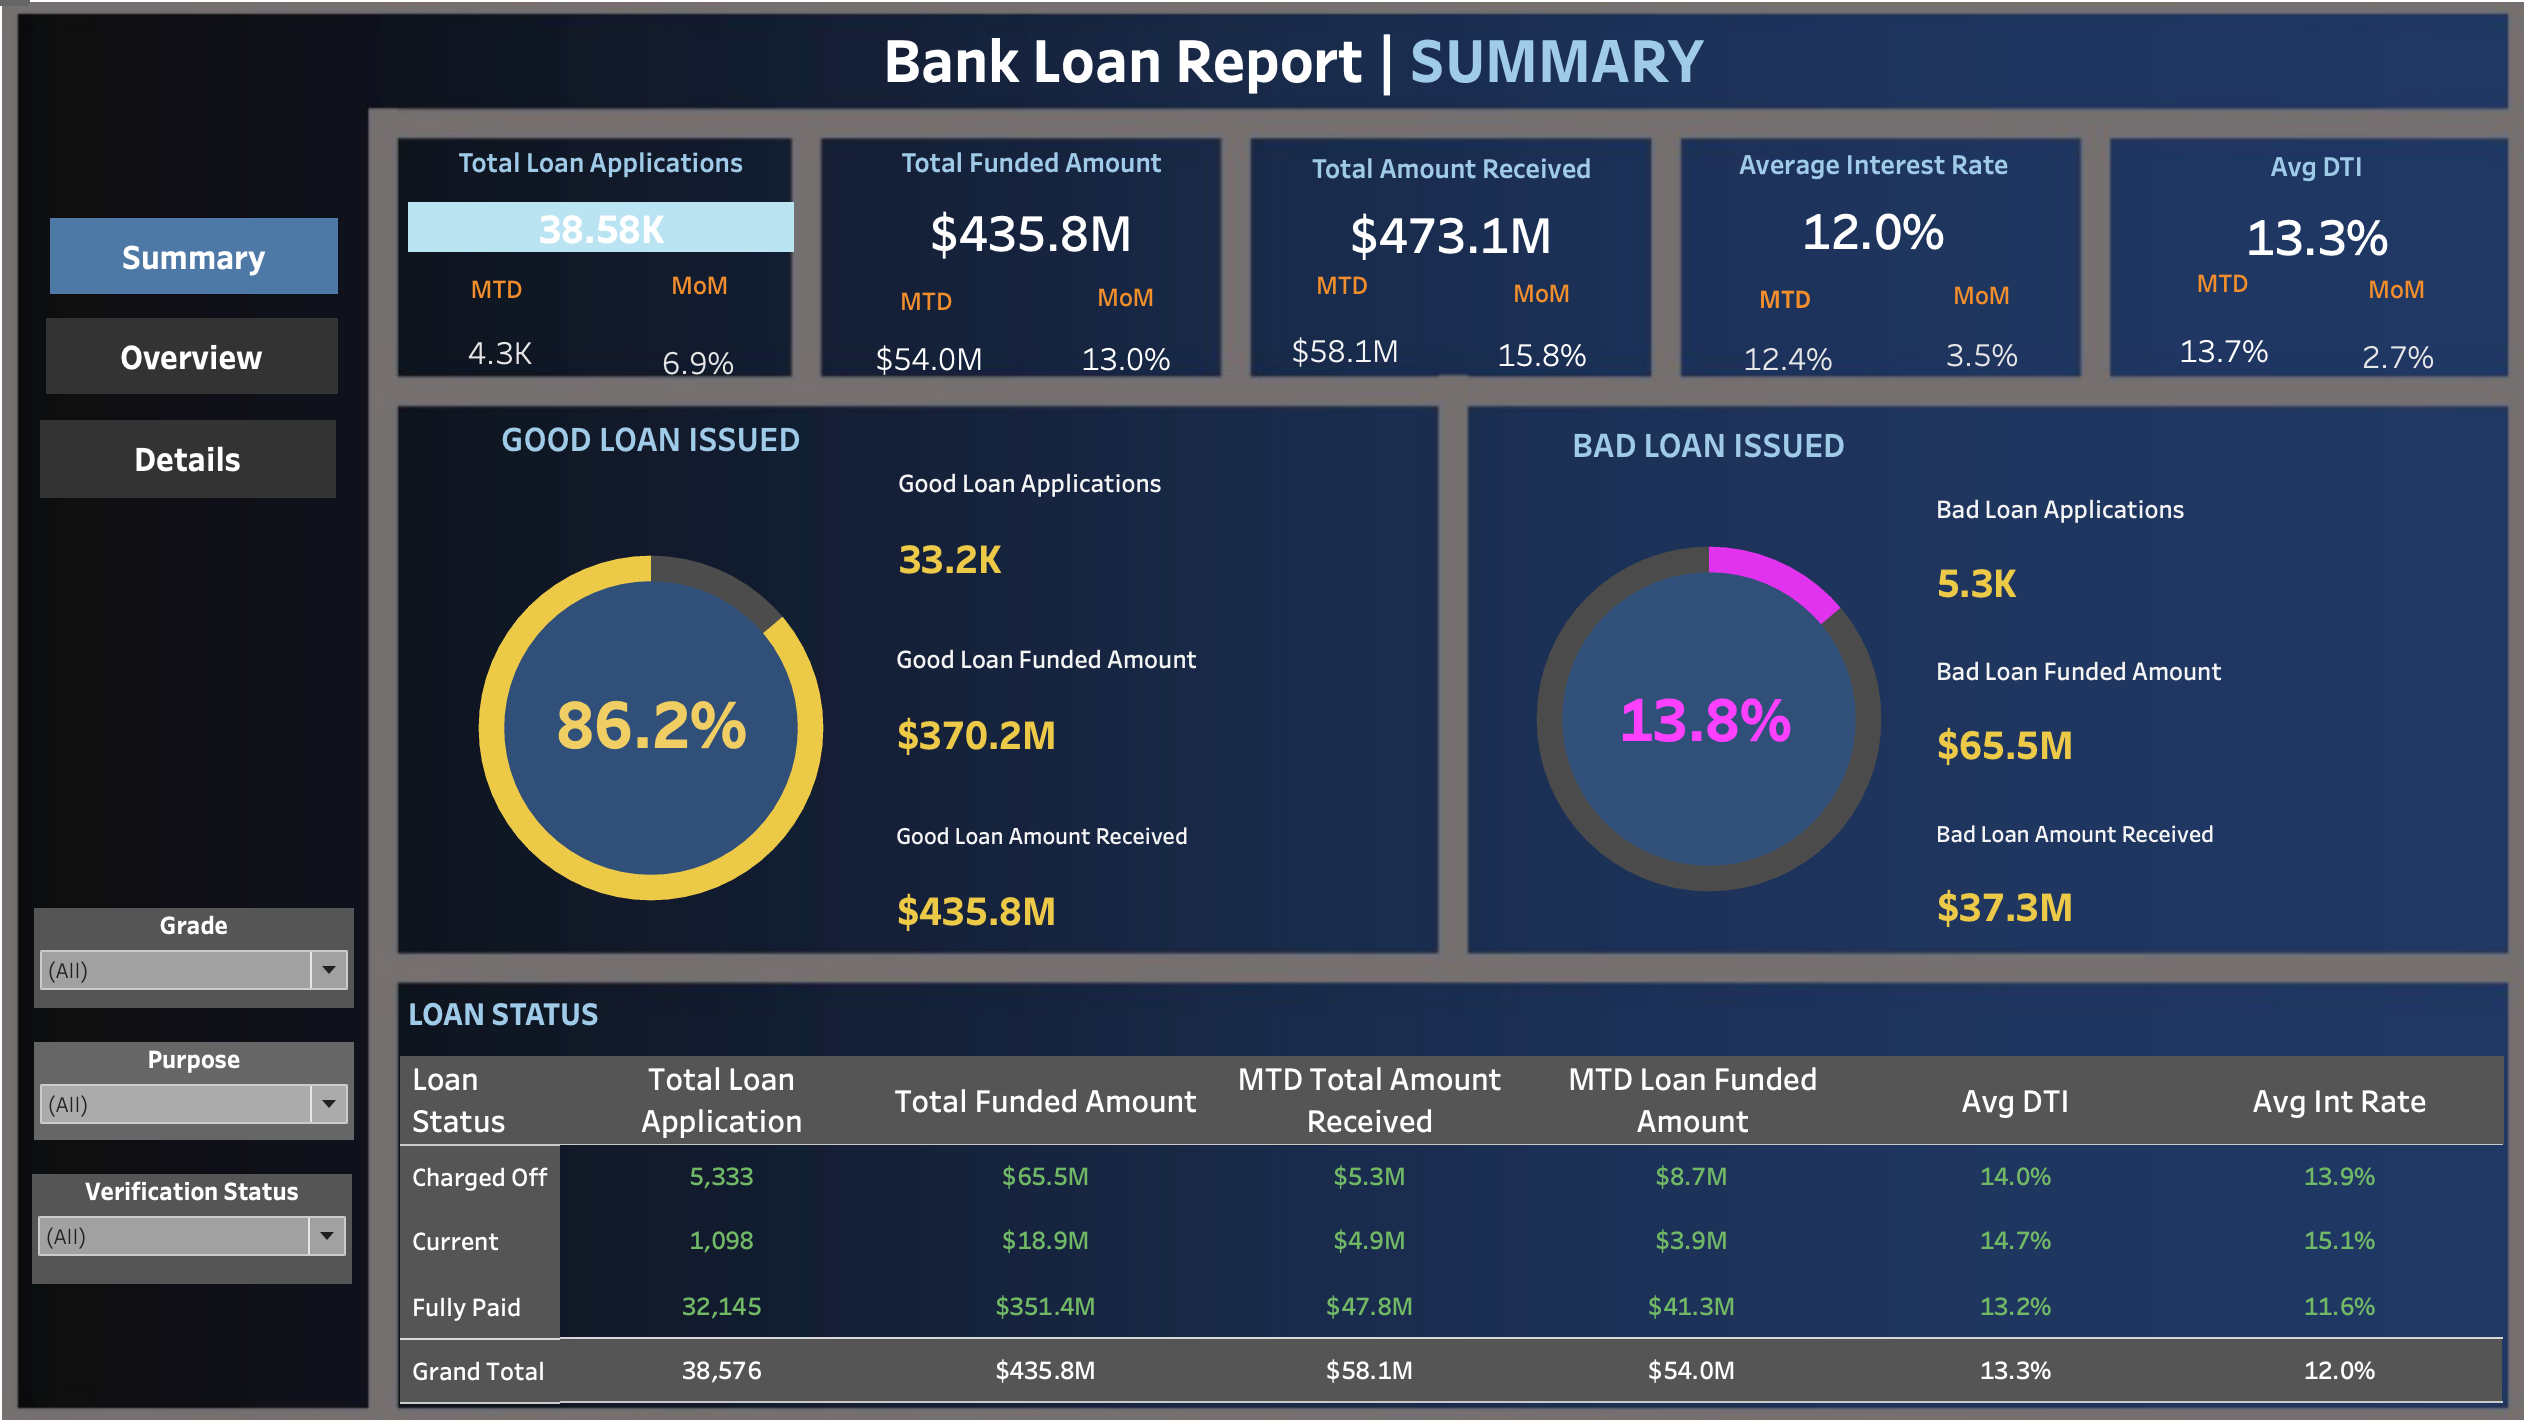

What the dashboard file says about the page in this screenshot:
{"tool":"tableau","page":{"name":"SUMMARY","canvas":[1000,1000],"units":"permille","ordinal":1},"visuals":[{"type":"image","param":"/Users/danhtungcao/Desktop/Tableau Porfolio/bankLoanProject/Tableau Background 1","box":[6.2,10,987.5,980]},{"type":"text","box":[350.2,67.3,470,51.1]},{"type":"worksheet","title":"Total Loan Applications","mark":"Automatic","box":[167.3,140.9,150.2,72.3]},{"type":"worksheet","title":"Total Funded Amount","mark":"Automatic","box":[333.1,140.9,154.1,77.3]},{"type":"worksheet","title":"Average Interest Rate","mark":"Automatic","box":[677.8,142.1,119.8,73.6]},{"type":"worksheet","title":"Avg DTI","mark":"Automatic","box":[834.2,143.4,151.8,77.3]},{"type":"worksheet","title":"Total Amount Received","mark":"Automatic","box":[498.1,144.6,151,73.6]},{"type":"dashboard-object","box":[28,192,112.1,47.4]},{"type":"text","box":[242,214.5,77.8,37.4]},{"type":"worksheet","title":"MTD Avg DTI","mark":"Automatic","box":[827.2,217,92.6,73.6]},{"type":"text","box":[176.7,218.2,50.6,34.9]},{"type":"worksheet","title":"MTD Total Amount Received","mark":"Automatic","box":[494.9,218.2,73.9,71.1]},{"type":"worksheet","title":"MoM Avg DTI","mark":"Automatic","box":[896.5,220.7,89.5,73.6]},{"type":"worksheet","title":"MoM Total Amount Received","mark":"Automatic","box":[563.4,223.2,90.3,67.3]},{"type":"worksheet","title":"MoM Avg Int Rate","mark":"Automatic","box":[745.5,224.4,68.5,64.8]},{"type":"worksheet","title":"MoM Total Funded Amount","mark":"Automatic","box":[410.9,225.7,71.6,67.3]},{"type":"worksheet","title":"MTD Avg Int Rate","mark":"Automatic","box":[663,226.9,82.5,64.8]},{"type":"worksheet","title":"MTD Total Funded Amount","mark":"Automatic","box":[331.5,228.2,77,62.3]},{"type":"worksheet","title":"MTD Total Applications","mark":"Automatic","box":[156.4,249.4,93.4,52.4]},{"type":"dashboard-object","box":[26.5,254.4,113.6,47.4]},{"type":"worksheet","title":"MoM Loan Applications","mark":"Automatic","box":[245.1,261.9,70,38.6]},{"type":"worksheet","title":"Good Loan Issue","mark":"Pie","rows":["Calculation_1268185563184693249","Calculation_1268185563184693249"],"box":[176.7,310.5,170.4,352.9]},{"type":"worksheet","title":"Bad Loan Issue","mark":"Pie","rows":["Calculation_1268185563184693249","Calculation_1268185563184693249"],"box":[580.5,314.2,186,334.2]},{"type":"dashboard-object","box":[24.1,318,115.2,48.6]},{"type":"worksheet","title":"Good Loan Applications","mark":"Automatic","box":[351.8,336.6,207.8,94.8]},{"type":"worksheet","title":"Bad Loan Applications ","mark":"Automatic","box":[755.6,352.9,224.9,91]},{"type":"worksheet","title":"Good Loan Funded Amount","mark":"Automatic","box":[351,447,207.8,94.8]},{"type":"worksheet","title":"Bad Loan Funded Amount ","mark":"Automatic","box":[755.6,453.9,224.9,91]},{"type":"worksheet","title":"Bad Loan Application%","mark":"Automatic","box":[635,462.5,83.3,82]},{"type":"worksheet","title":"Good Loan Application%","mark":"Automatic","box":[214.8,462.6,94.9,87.3]},{"type":"worksheet","title":"Bad Loan Amount Received","mark":"Automatic","box":[755.6,556.1,224.9,91]},{"type":"worksheet","title":"Good Loan Amount Received","mark":"Automatic","box":[351,557.3,207.8,94.8]},{"type":"filter","title":"Good Loan Issue","param":"[federated.015kj6r0c6jg371g86a5t0doffs4].[none:grade:nk]","box":[21.8,622.2,124.5,62.3]},{"type":"worksheet","title":"Loan Satus","mark":"Automatic","rows":["loan_status"],"box":[164.2,669.6,818.7,261.9]},{"type":"filter","title":"Good Loan Issue","param":"[federated.015kj6r0c6jg371g86a5t0doffs4].[none:purpose:nk]","box":[21.8,705.7,124.5,61.1]},{"type":"filter","title":"Good Loan Issue","param":"[federated.015kj6r0c6jg371g86a5t0doffs4].[none:verification_status:nk]","box":[21,788,124.5,68.6]}]}

Visuals, with their boxes on the dashboard's canvas, which has no fixed pixel size, in thousandths of its width and height (x1, y1, x2, y2). These are canvas units, not pixel positions in the 2528x1422 screenshot, which may show the page scaled, cropped or inside an application window:
image: 6,10,994,990
text: 350,67,820,118
"Total Loan Applications" worksheet: 167,141,318,213
"Total Funded Amount" worksheet: 333,141,487,218
"Average Interest Rate" worksheet: 678,142,798,216
"Avg DTI" worksheet: 834,143,986,221
"Total Amount Received" worksheet: 498,145,649,218
dashboard-object: 28,192,140,239
text: 242,214,320,252
"MTD Avg DTI" worksheet: 827,217,920,291
text: 177,218,227,253
"MTD Total Amount Received" worksheet: 495,218,569,289
"MoM Avg DTI" worksheet: 896,221,986,294
"MoM Total Amount Received" worksheet: 563,223,654,290
"MoM Avg Int Rate" worksheet: 746,224,814,289
"MoM Total Funded Amount" worksheet: 411,226,482,293
"MTD Avg Int Rate" worksheet: 663,227,746,292
"MTD Total Funded Amount" worksheet: 332,228,408,290
"MTD Total Applications" worksheet: 156,249,250,302
dashboard-object: 26,254,140,302
"MoM Loan Applications" worksheet: 245,262,315,300
"Good Loan Issue" worksheet (Pie marks): 177,310,347,663
"Bad Loan Issue" worksheet (Pie marks): 580,314,766,648
dashboard-object: 24,318,139,367
"Good Loan Applications" worksheet: 352,337,560,431
"Bad Loan Applications " worksheet: 756,353,980,444
"Good Loan Funded Amount" worksheet: 351,447,559,542
"Bad Loan Funded Amount " worksheet: 756,454,980,545
"Bad Loan Application%" worksheet: 635,462,718,544
"Good Loan Application%" worksheet: 215,463,310,550
"Bad Loan Amount Received" worksheet: 756,556,980,647
"Good Loan Amount Received" worksheet: 351,557,559,652
"Good Loan Issue" filter: 22,622,146,684
"Loan Satus" worksheet: 164,670,983,932
"Good Loan Issue" filter: 22,706,146,767
"Good Loan Issue" filter: 21,788,146,857
